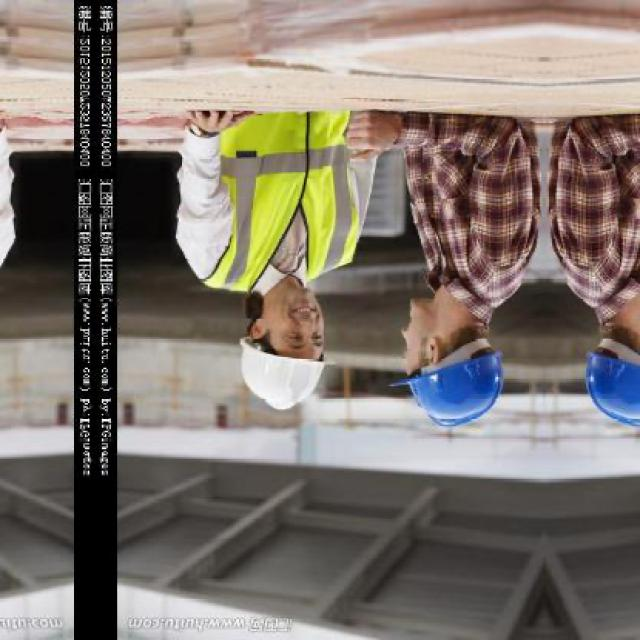con casco: (391, 326, 574, 428), (211, 321, 335, 409)
